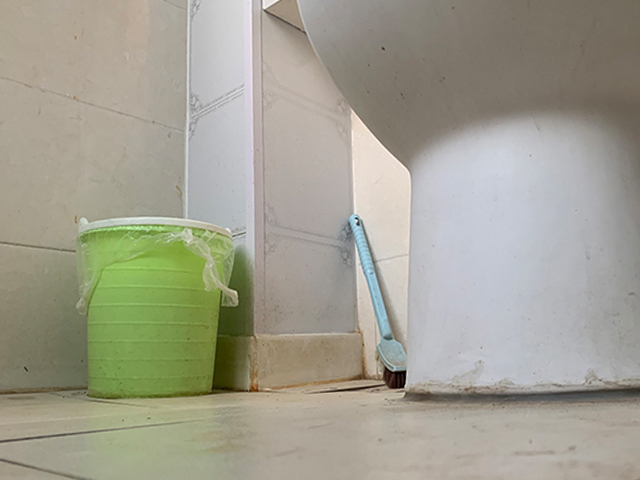closestool: (297, 1, 640, 396)
trashcan: (76, 217, 235, 399)
